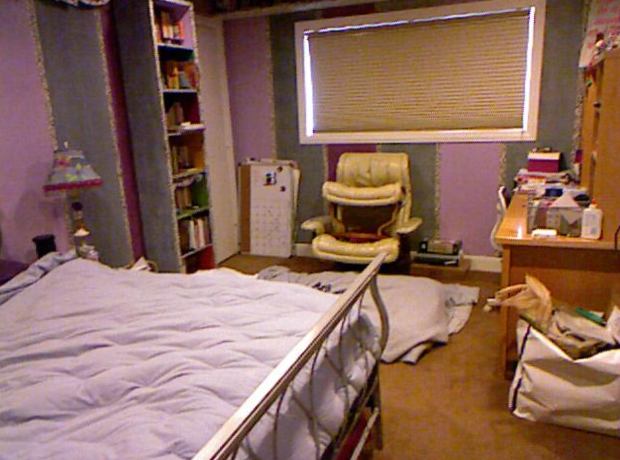cabinet: (496, 43, 620, 389)
chair: (303, 150, 417, 262)
window: (301, 27, 531, 130)
